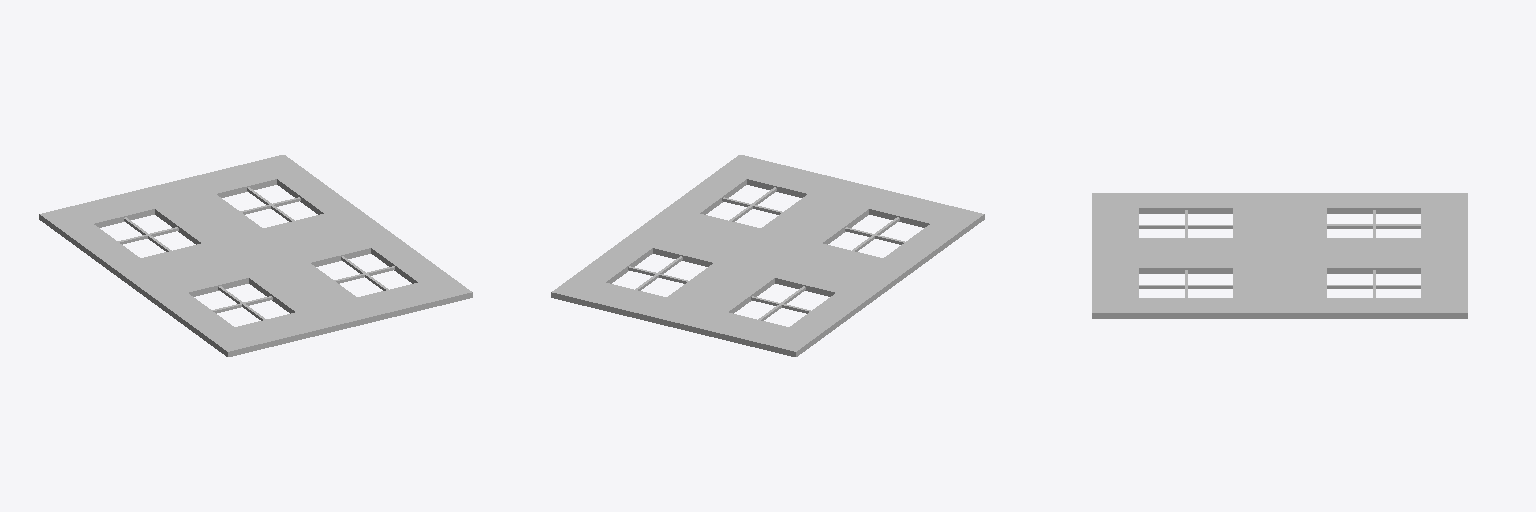
File: roof.obj
3 renders of one model, left to right at view 1: azimuth 30°, elevation 25°; view 2: azimuth 150°, elevation 25°; view 3: azimuth 270°, elevation 25°, orthographic.
Visible parts, largest first — view 1: Cube; view 2: Cube; view 3: Cube, Cube.004.
Part boxes in pixels (bbox=[...]): Cube: bbox=[39, 155, 472, 356]; Cube: bbox=[551, 155, 984, 356]; Cube: bbox=[1092, 193, 1467, 318]; Cube.004: bbox=[1327, 210, 1420, 237].
Size of the model in its own units: 45 by 1 by 60.